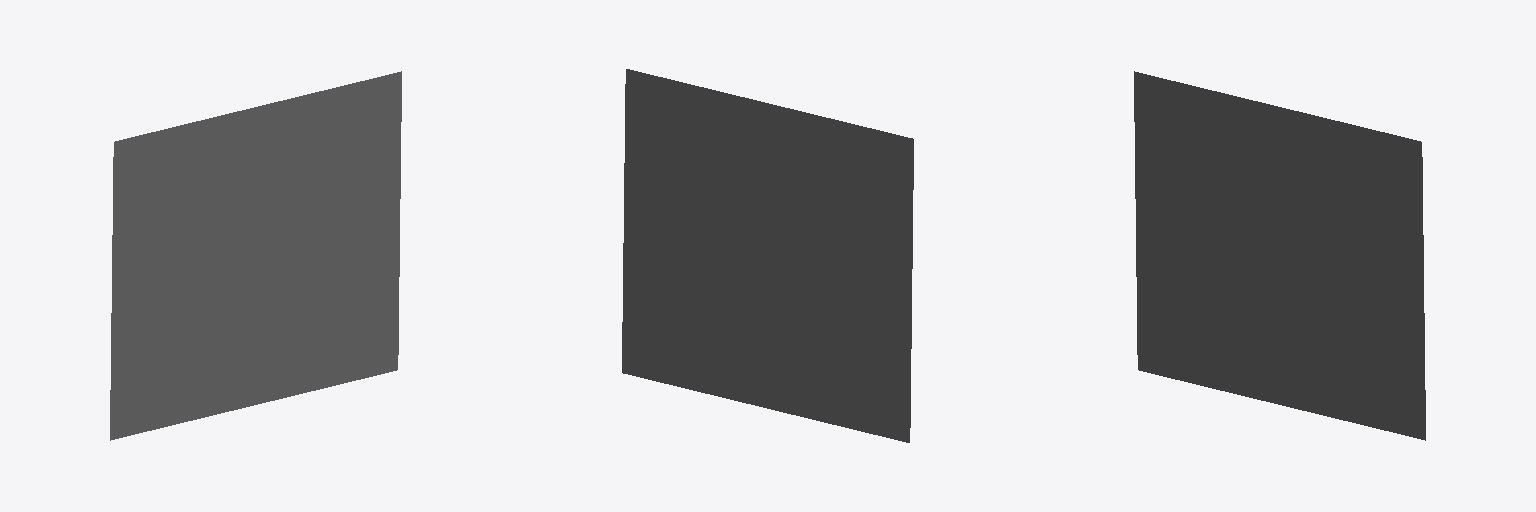
Rendered from glass.obj.
3 views of the same model, side by side, from view 1: azimuth 30°, elevation 25°; view 2: azimuth 150°, elevation 25°; view 3: azimuth 330°, elevation 25° (orthographic).
Visible parts, largest first — view 1: pPlane2; view 2: pPlane2; view 3: pPlane2.
Part boxes in pixels (x1,y1,x2,y2): pPlane2: (110,71,401,440); pPlane2: (622,69,913,442); pPlane2: (1134,71,1425,440).
Bounding box in the file's own units: 5.55 × 5.55 × 0.1282.